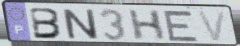3: (99, 7, 129, 43)
B: (29, 7, 65, 41)
E: (161, 9, 201, 43)
H: (127, 9, 167, 42)
N: (60, 8, 102, 41)
V: (195, 10, 228, 43)
